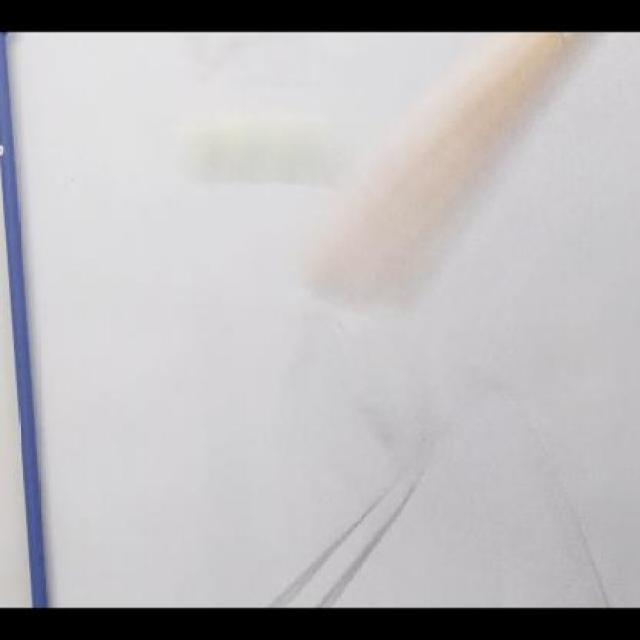baseball: (188, 124, 364, 178)
